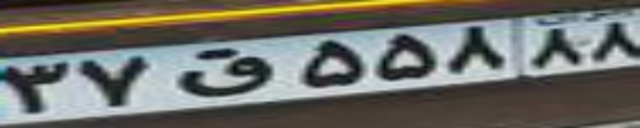3: (0, 59, 68, 113)
5: (300, 38, 362, 86), (375, 33, 437, 81)
7: (76, 53, 152, 107)
8: (448, 25, 504, 73), (524, 27, 581, 66), (588, 22, 638, 60)
ghaf: (177, 47, 276, 98)
